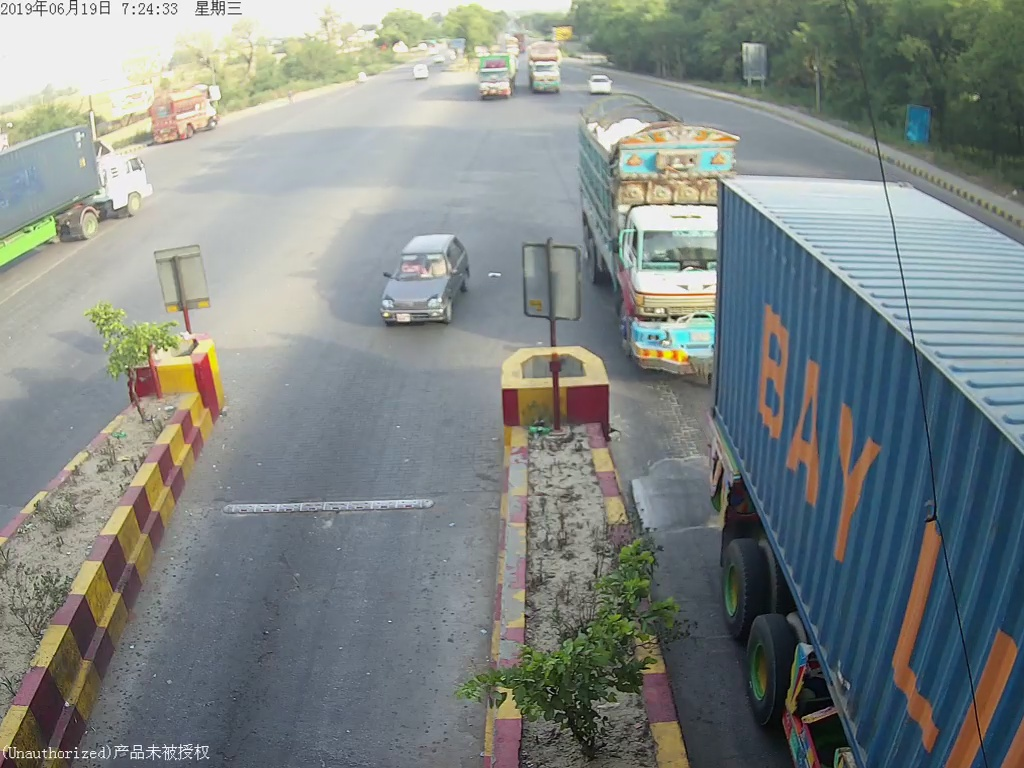Cat-1: (379, 229, 474, 340)
Cat-4: (591, 93, 717, 377)
